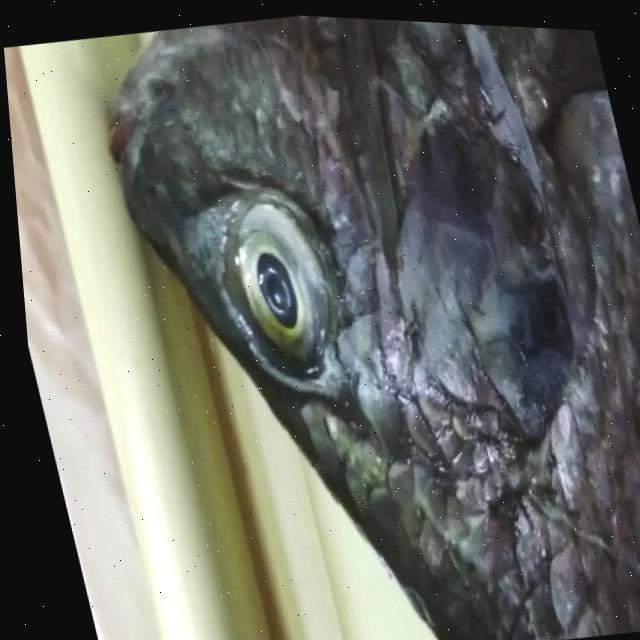Non-Fresh: (179, 166, 359, 407)
